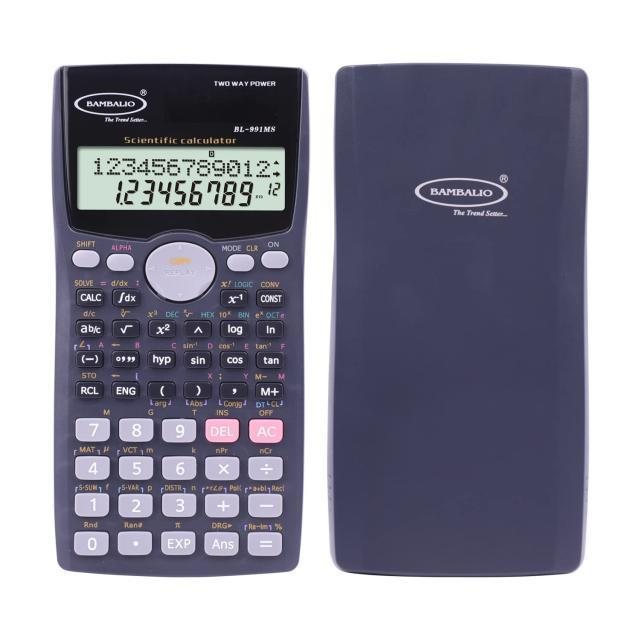Calculator: (46, 58, 310, 578)
